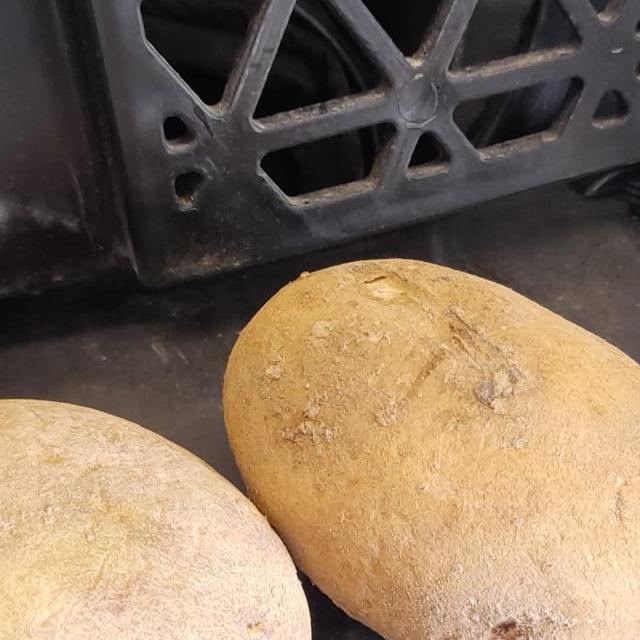potato: (195, 207, 640, 640), (0, 365, 355, 640)
